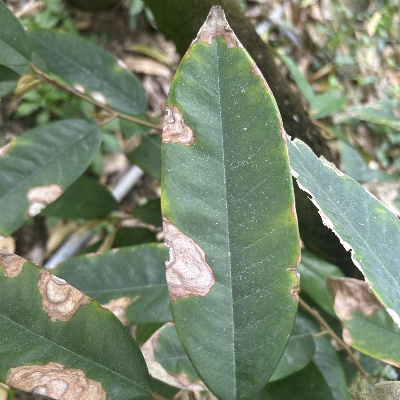Leaf_Colletotrichum: (158, 4, 304, 400)
